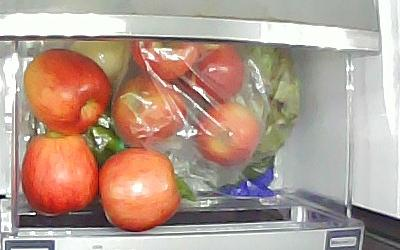apple: (23, 50, 110, 136), (100, 148, 181, 233), (22, 134, 98, 216)
apple_vinyl: (114, 75, 189, 149), (194, 103, 260, 167), (189, 44, 246, 102), (131, 41, 199, 79)
